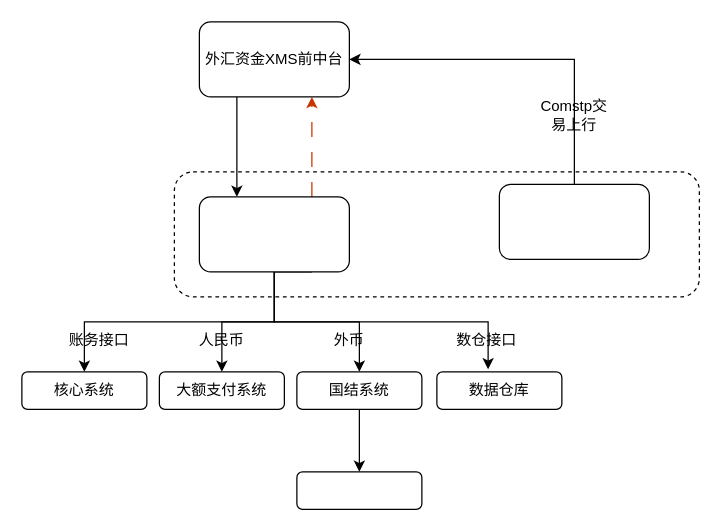
Image size: 721x531. Some labels were removed from this diagram. Here are the shapes that lost their labels. From the top down, the centre of each, then its label:
(x=273, y=234): 外汇资金管理系统FBS后台
(x=573, y=221): 代客资金系统（国结、柜面、网银）
(x=359, y=490): SWIFT前置机
